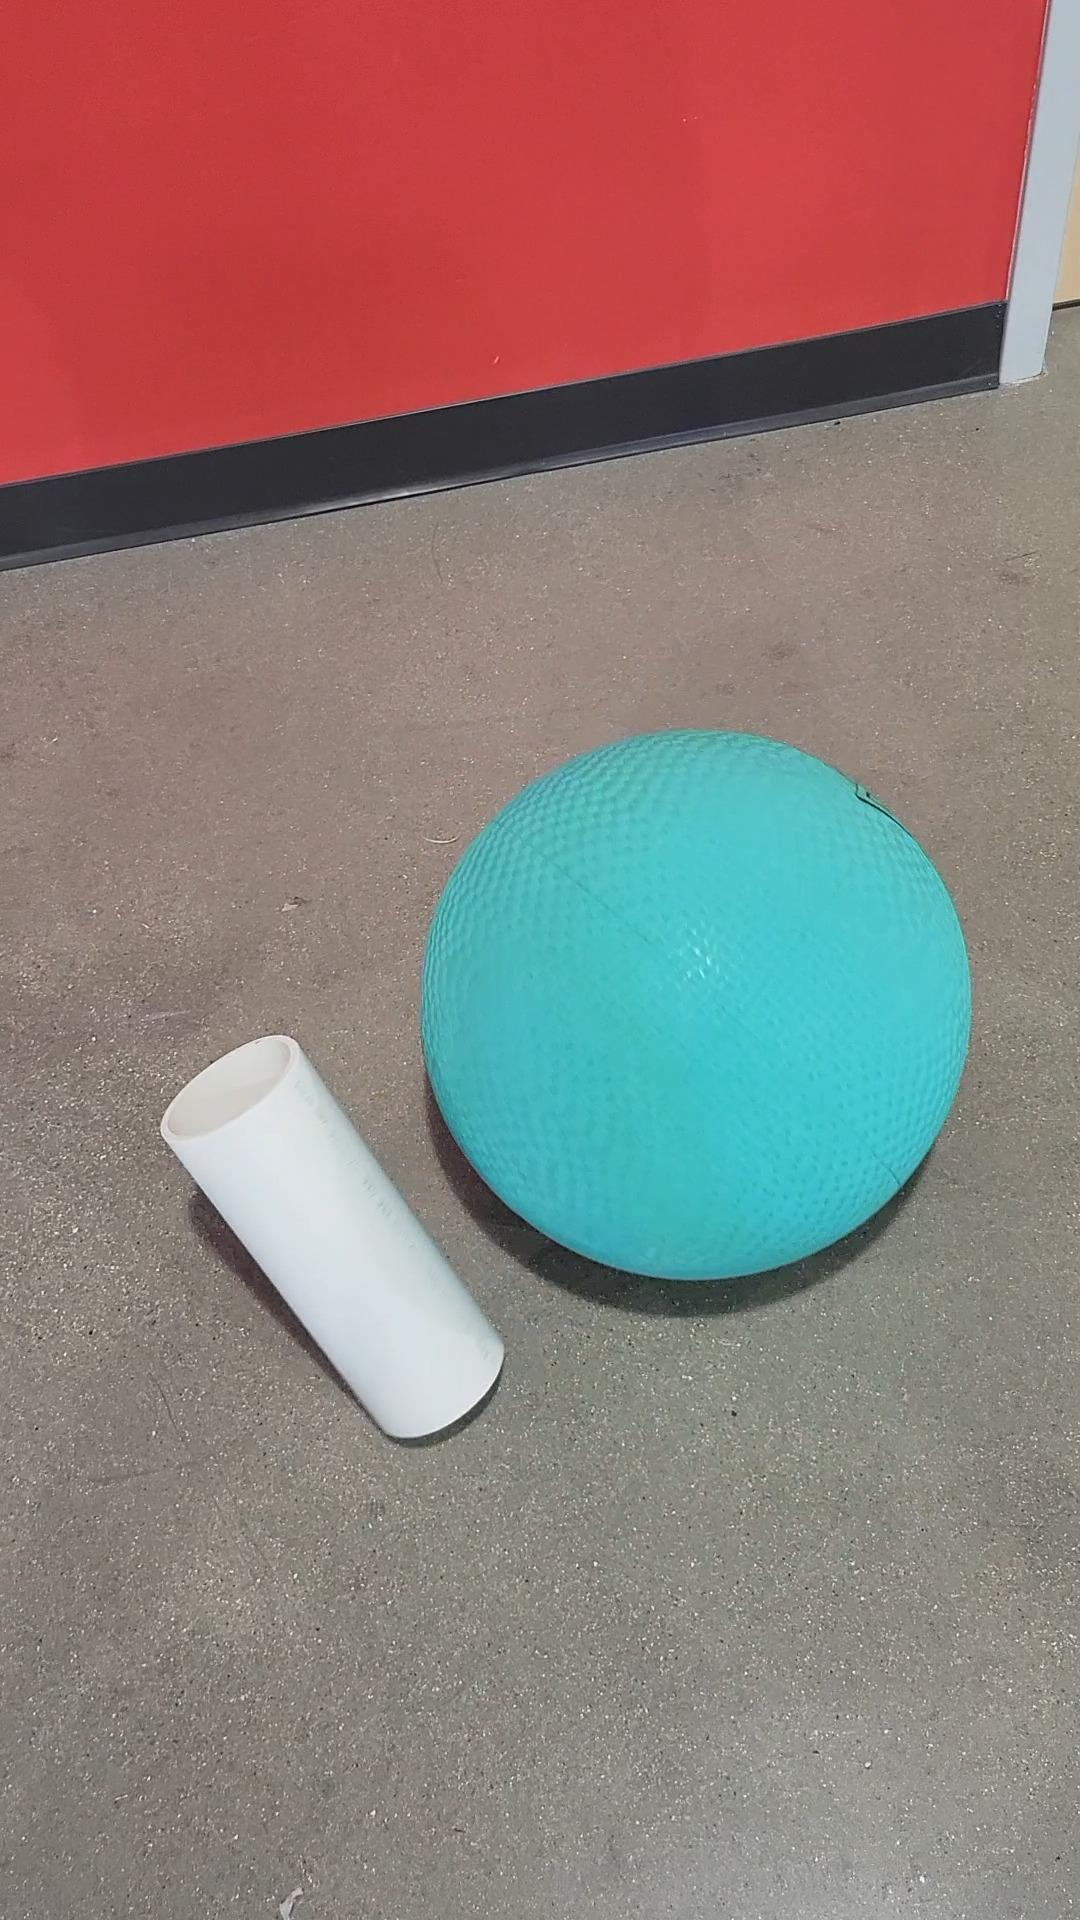algae: (414, 721, 977, 1284)
coral: (160, 1031, 506, 1443)
